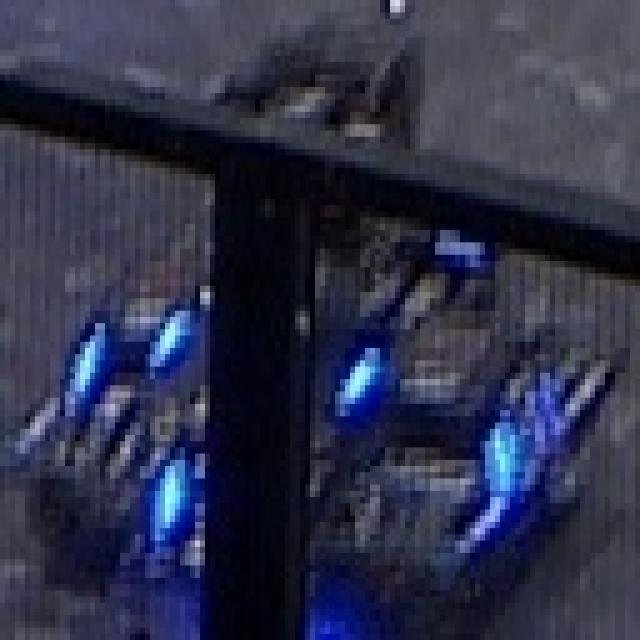B3: (485, 366, 565, 491)
